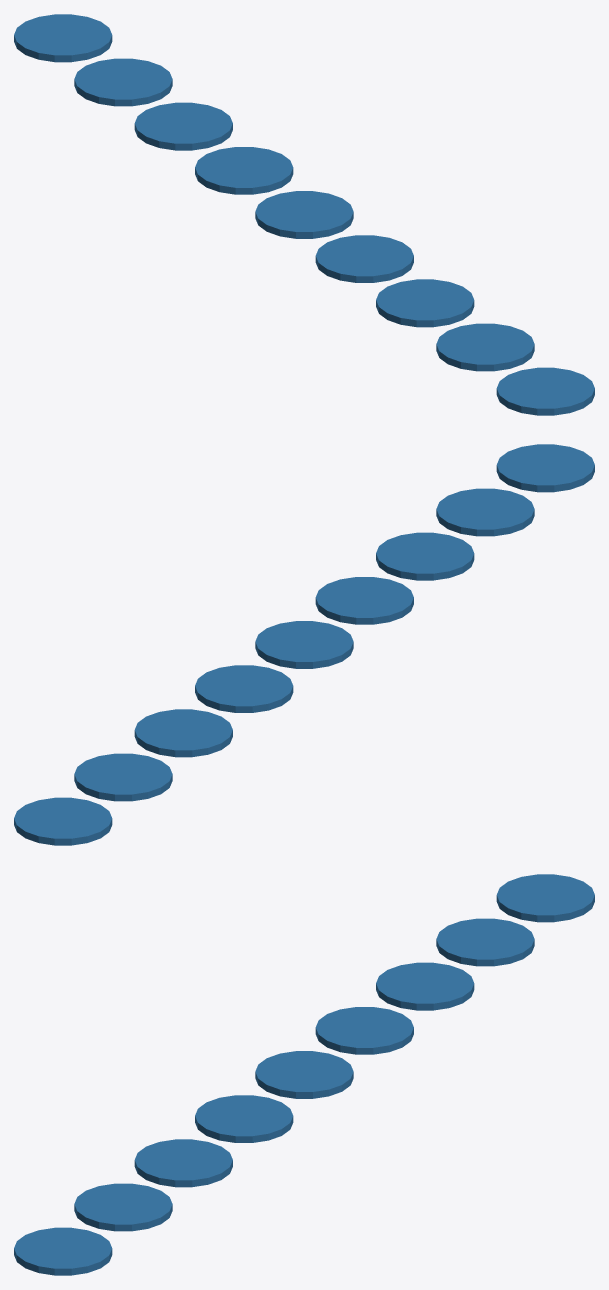
Rendered from scendance-plan-route-dot.glb.
3 renders of one model, top to bottom at view 1: azimuth 30°, elevation 25°; view 2: azimuth 150°, elevation 25°; view 3: azimuth 330°, elevation 25°, orthographic.
Size of the model in its own units: 0.3329 by 0.026 by 3.66.
